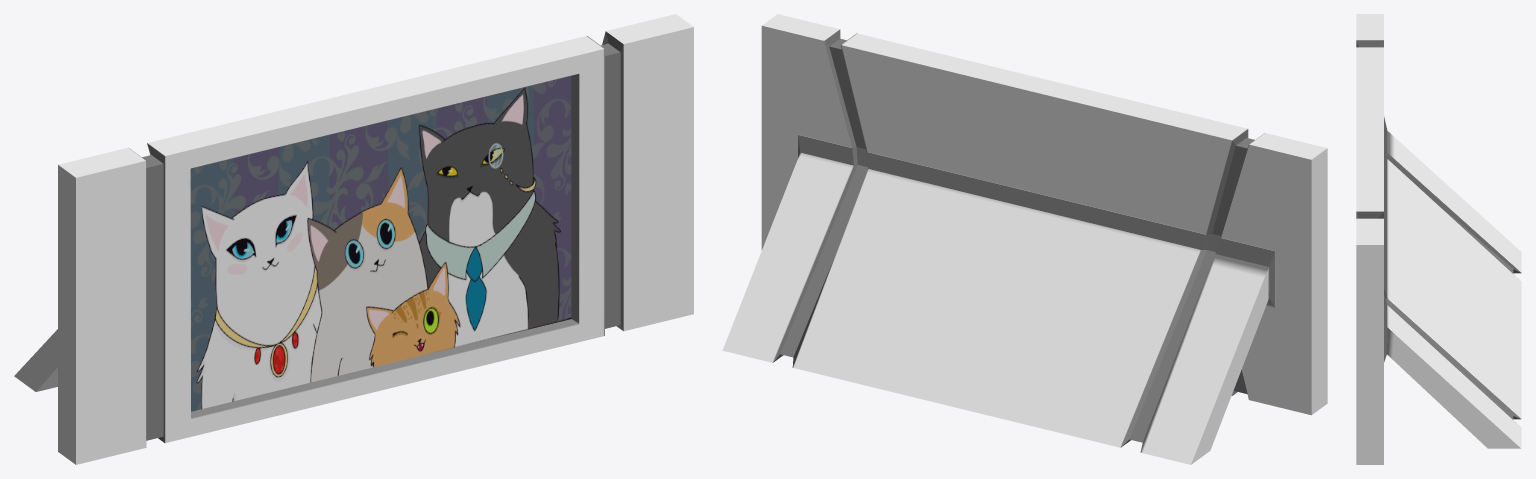
The model's file is Photo.fbx.
The picture shows the model from 3 angles, left to right: view 1: azimuth 30°, elevation 25°; view 2: azimuth 150°, elevation 25°; view 3: azimuth 270°, elevation 25°; orthographic projection. The views are drawn at different scales.
Parts seen in each view (by area): view 1: Fotografia; view 2: Fotografia; view 3: Fotografia.
Part boxes in pixels (x1,y1,x2,y2): Fotografia: (14,14,693,464); Fotografia: (722,14,1327,464); Fotografia: (1356,14,1521,464).
Bounding box in the file's own units: 293 × 131 × 88.5.
1 material, 1 textured.
